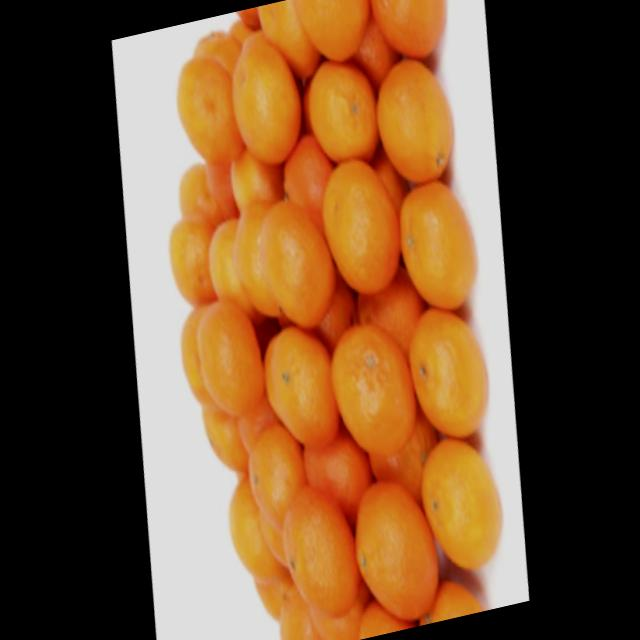orange: (390, 415, 522, 587), (378, 163, 496, 330), (337, 478, 459, 637), (349, 36, 468, 198), (260, 475, 374, 620), (310, 153, 420, 300), (242, 319, 346, 456), (316, 334, 426, 461), (400, 306, 502, 441), (284, 46, 390, 165), (185, 294, 283, 422), (214, 39, 313, 162), (158, 51, 252, 174), (234, 416, 322, 528), (255, 210, 340, 324), (206, 473, 285, 582), (288, 0, 385, 72), (367, 0, 463, 72), (174, 160, 242, 240), (166, 222, 229, 306)
